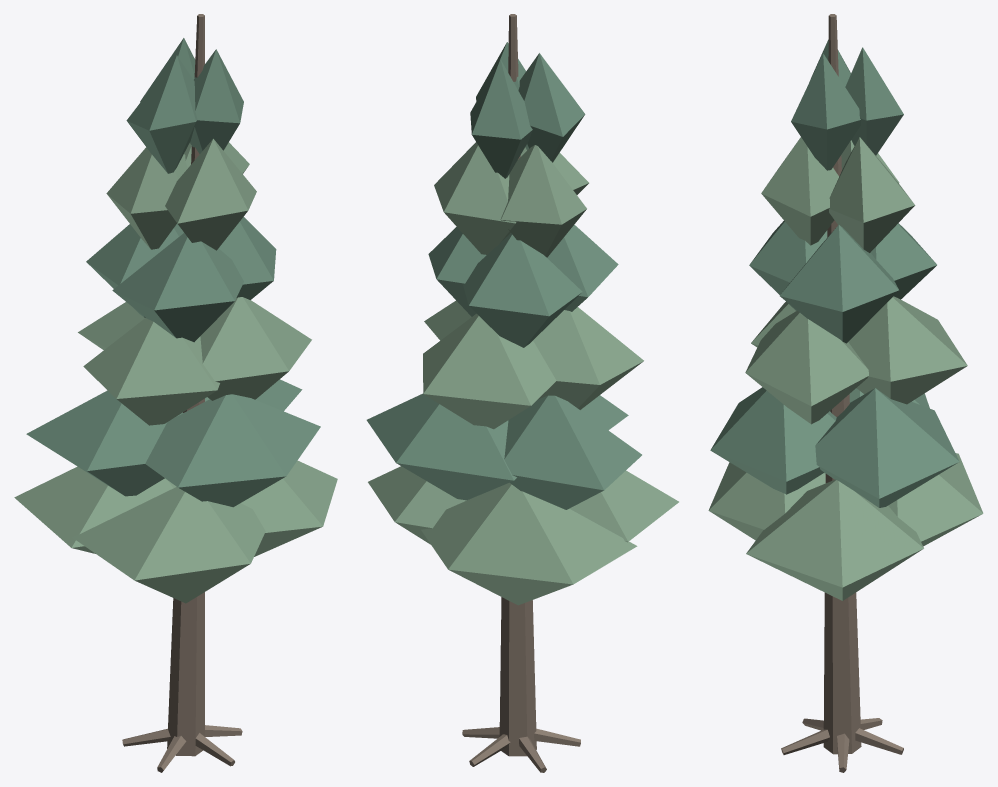
3 views of the same model, side by side, from view 1: azimuth 30°, elevation 25°; view 2: azimuth 150°, elevation 25°; view 3: azimuth 270°, elevation 25° (orthographic).
Size of the model in its own units: 8.08 by 20.61 by 6.97.
